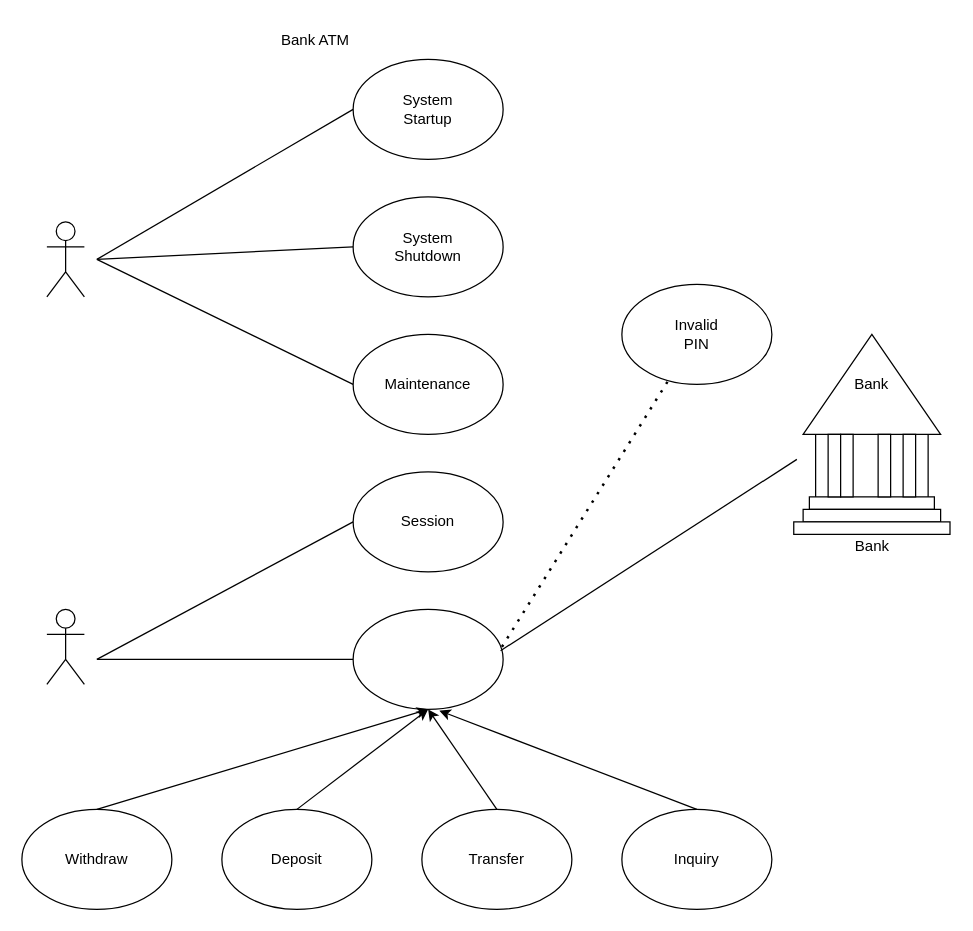
Some shapes in this 973 by 931 pixel diagram are drawn without their labels. The centre of each missing label's shape, as x and y in pixels:
"Operator" goes at (x=65, y=259).
"Tansaction" goes at (x=427, y=658).
"Technician" goes at (x=65, y=646).
